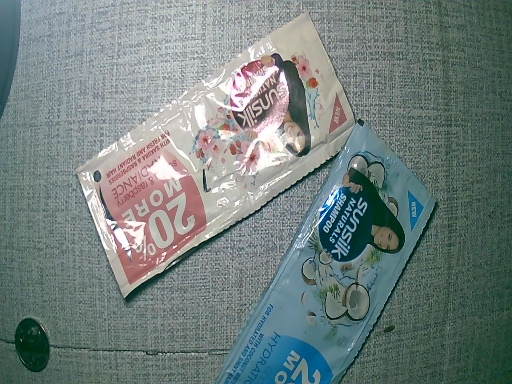metal: (15, 317, 58, 375)
plastic: (77, 9, 343, 301), (222, 121, 438, 384)
